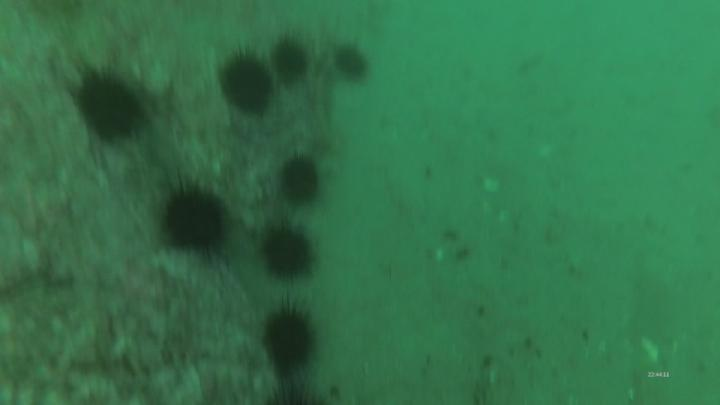echinus: (155, 172, 233, 261), (67, 65, 149, 148), (262, 300, 324, 377), (219, 47, 277, 125), (259, 215, 318, 284), (277, 153, 324, 211), (331, 39, 381, 89), (271, 34, 312, 89), (259, 386, 324, 405)
